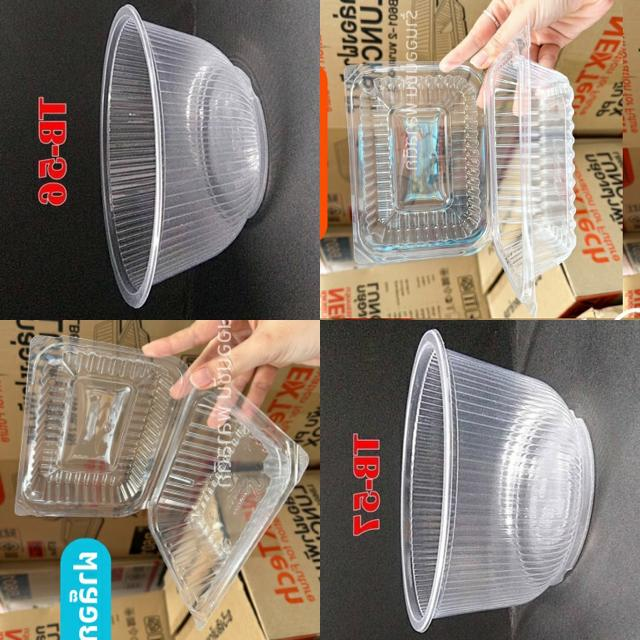Single-Use-Plastic: (15, 336, 308, 626), (345, 30, 576, 316), (401, 330, 594, 632), (101, 5, 268, 308)
